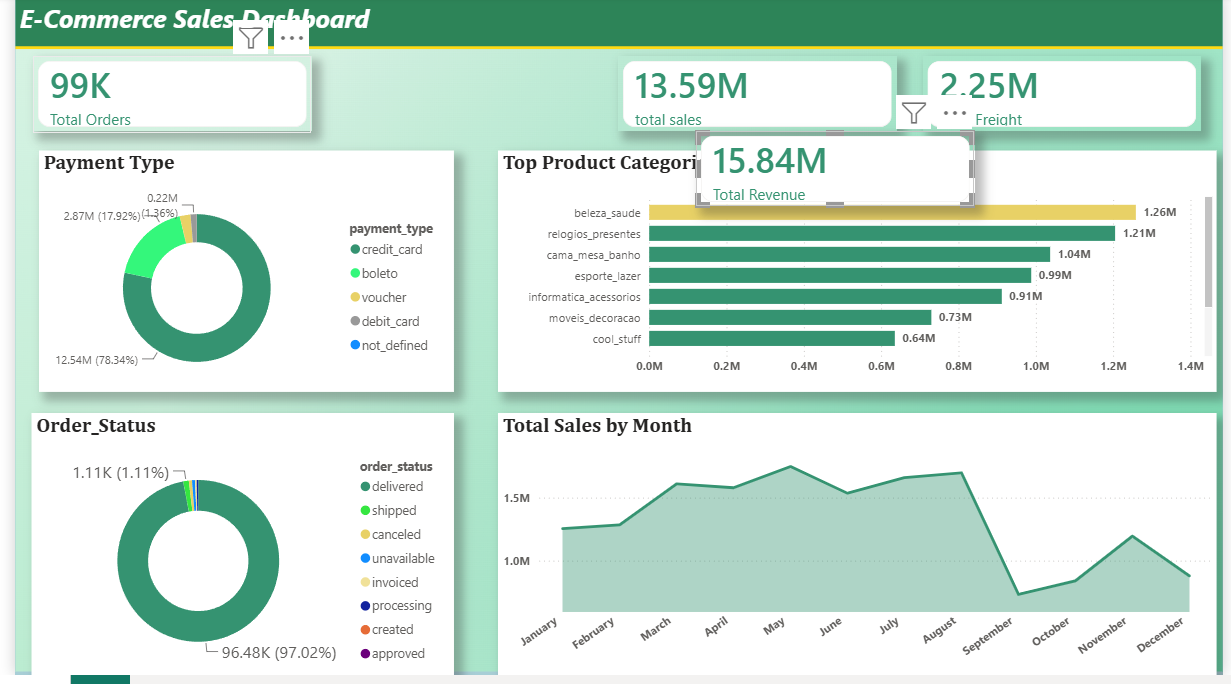

What the dashboard file says about the page in this screenshot:
{"tool":"powerbi","page":{"name":"Page 1","canvas":[1280,720],"ordinal":0},"visuals":[{"type":"cardVisual","fields":{"Data":["olist_order_items_dataset.Total Orders"]},"box":[18.6,64.3,295,80],"z":0},{"type":"textbox","box":[0,0,398.6,50],"z":1000},{"type":"donutChart","title":"Payment Type","fields":{"Category":["olist_order_payments_dataset.payment_type"],"Y":["Sum(olist_order_payments_dataset.payment_value)"]},"box":[26,164,440,256],"z":2000},{"type":"cardVisual","fields":{"Data":["olist_order_items_dataset.Total Revenue"]},"box":[336,64,295,80],"z":3000},{"type":"cardVisual","fields":{"Data":["olist_order_items_dataset.total sales"]},"box":[640,64,295,80],"z":4000},{"type":"cardVisual","fields":{"Data":["olist_order_items_dataset.Total Freight"]},"box":[962,64,295,80],"z":5000},{"type":"clusteredBarChart","title":"Top Product Categories by Sales","fields":{"Category":["olist_products_dataset.product_category_name"],"Y":["olist_order_items_dataset.total sales"]},"box":[512,164,762,256],"z":6000},{"type":"donutChart","title":" Order_Status","fields":{"Category":["olist_orders_dataset.order_status"],"Y":["CountNonNull(olist_orders_dataset.order_id)"]},"box":[18,442,448,278],"z":7000},{"type":"areaChart","title":"Total Sales by Month","fields":{"Category":["olist_orders_dataset.Month name"],"Y":["olist_orders_dataset.TOTAL SALES NEW"]},"box":[512,442,762,278],"z":8000}]}

Visuals, with their boxes in screenshot pixels (x1, y1, x2, y2), scaled from the page's 1280x720 canvas onto the 1231x684 screenshot:
cardVisual - olist_order_items_dataset.Total Orders: <region>18, 61, 302, 137</region>
textbox: <region>0, 0, 383, 48</region>
"Payment Type" donutChart: <region>25, 156, 448, 399</region>
cardVisual - olist_order_items_dataset.Total Revenue: <region>323, 61, 607, 137</region>
cardVisual - olist_order_items_dataset.total sales: <region>616, 61, 899, 137</region>
cardVisual - olist_order_items_dataset.Total Freight: <region>925, 61, 1209, 137</region>
"Top Product Categories by Sales" clusteredBarChart: <region>492, 156, 1225, 399</region>
" Order_Status" donutChart: <region>17, 420, 448, 683</region>
"Total Sales by Month" areaChart: <region>492, 420, 1225, 683</region>
